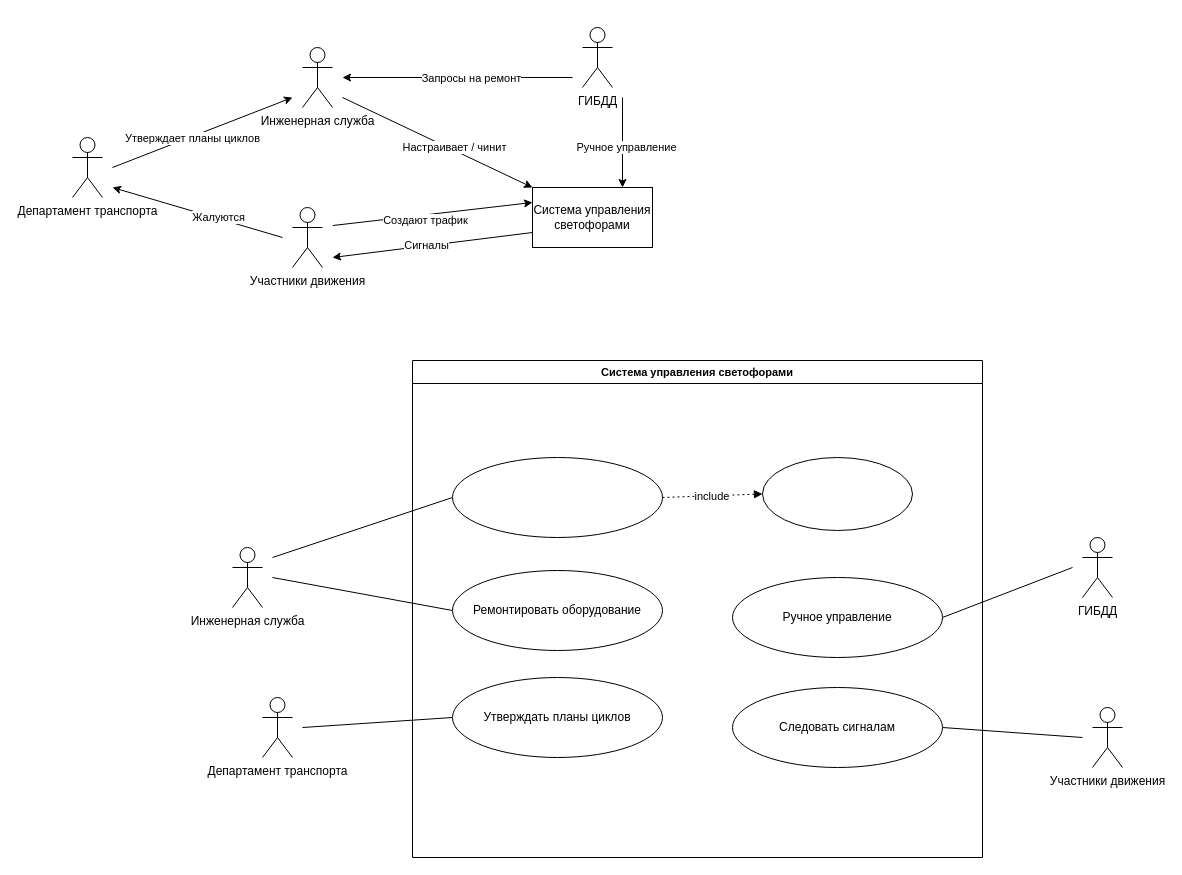
This 1182x875 diagram has some shape labels left out. Each missing label, with the box of its shape:
Логирование ошибок: (762, 456, 912, 530)
Настраивать параметры: (452, 456, 662, 538)
